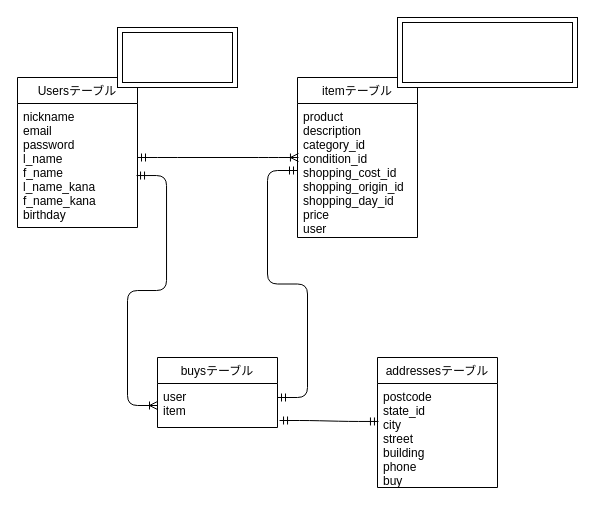
Some shapes in this 595 by 508 pixel diagram are drawn without their labels. The shapes that lost their labels are listed below. From the top down, each one's centre as x and y in pixels, then its label:
the point at 177,57: has_many:items has_many:buys
the point at 487,52: belong_to:user has_one_attached:image has_one:buy
